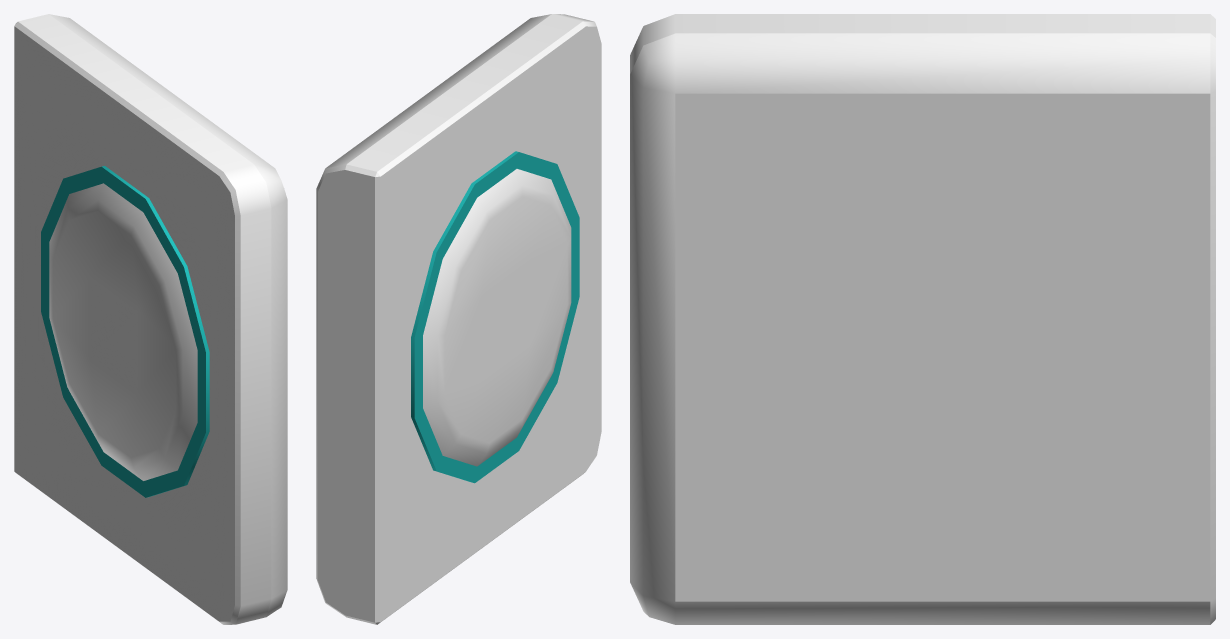
Rendered from Autoclave_door.fbx.
3 renders of one model, left to right at view 1: azimuth 30°, elevation 25°; view 2: azimuth 150°, elevation 25°; view 3: azimuth 270°, elevation 25°, orthographic. The views are drawn at different scales.
Visible parts, largest first — view 1: Autoclave_door; view 2: Autoclave_door; view 3: Autoclave_door.
Part boxes in pixels (x1,y1,x2,y2): Autoclave_door: [14, 14, 287, 624]; Autoclave_door: [316, 14, 601, 624]; Autoclave_door: [630, 14, 1215, 624].
Bounding box in the file's own units: 0.0533 × 0.2997 × 0.2697.
